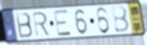6: (96, 6, 111, 35), (74, 8, 89, 36)
B: (110, 5, 131, 35), (14, 11, 35, 40)
E: (53, 9, 73, 38)
R: (31, 11, 52, 39)
